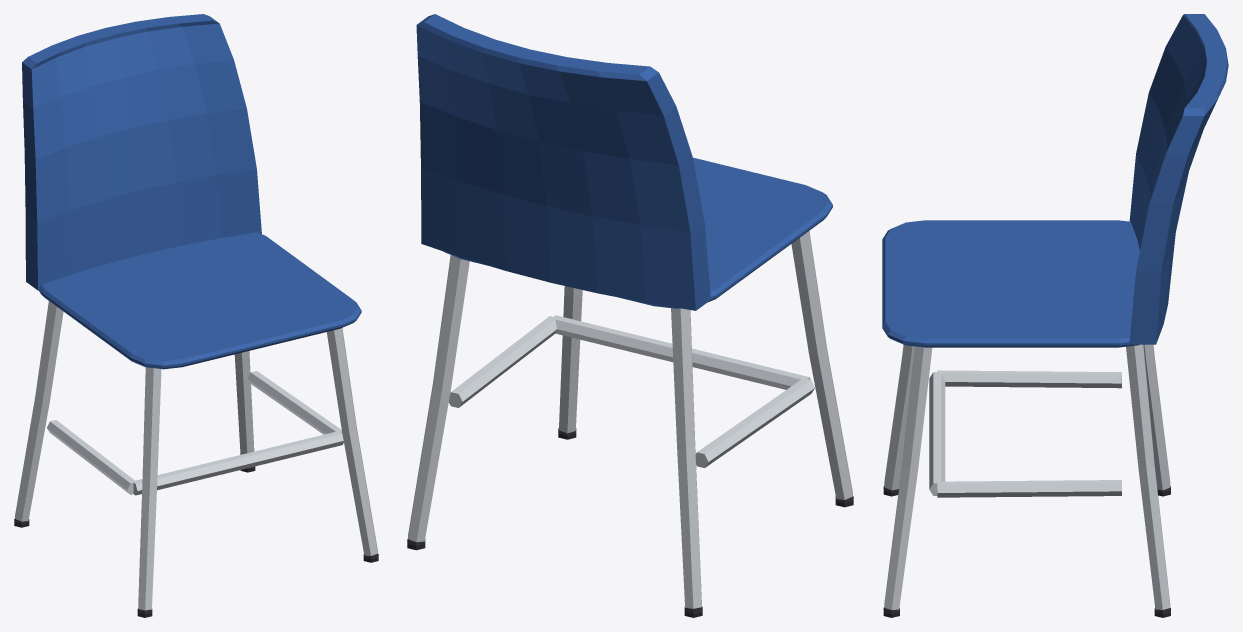
File: FN_Chair_Stacking.obj
3 renders of one model, left to right at view 1: azimuth 30°, elevation 25°; view 2: azimuth 150°, elevation 25°; view 3: azimuth 270°, elevation 25°, orthographic. The views are drawn at different scales.
Visible parts, largest first — view 1: FN_Chair_Stacking; view 2: FN_Chair_Stacking; view 3: FN_Chair_Stacking.
Boxes of the visible parts, <box> form: FN_Chair_Stacking: <box>14,14,378,617</box>; FN_Chair_Stacking: <box>407,14,853,617</box>; FN_Chair_Stacking: <box>882,14,1228,617</box>.
Bounding box in the file's own units: 0.456 × 0.809 × 0.516.
1 material, 1 textured.
